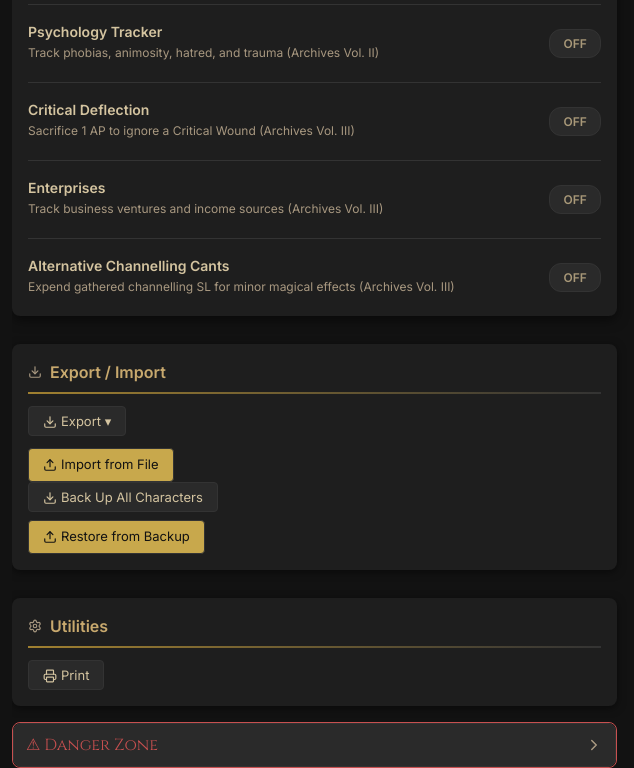
Test: SettingsPage › Utilities rendering › renders Print button and Clear Sheet inside collapsed Danger Zone
Expected: the button "Print" is shown, [28,660,104,690]
# Expand Danger Zone to access Clear Sheet
Click the button "⚠ Danger Zone". click: coordinates (92, 745)
box: [13,723,616,767]
(page scrolled)
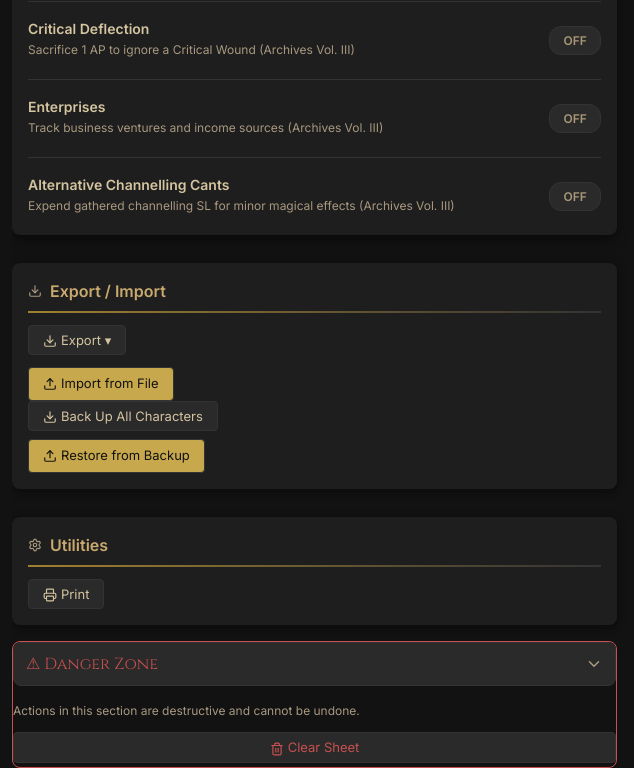
Now the button "Clear Sheet" is shown, box [13,732,616,763]
